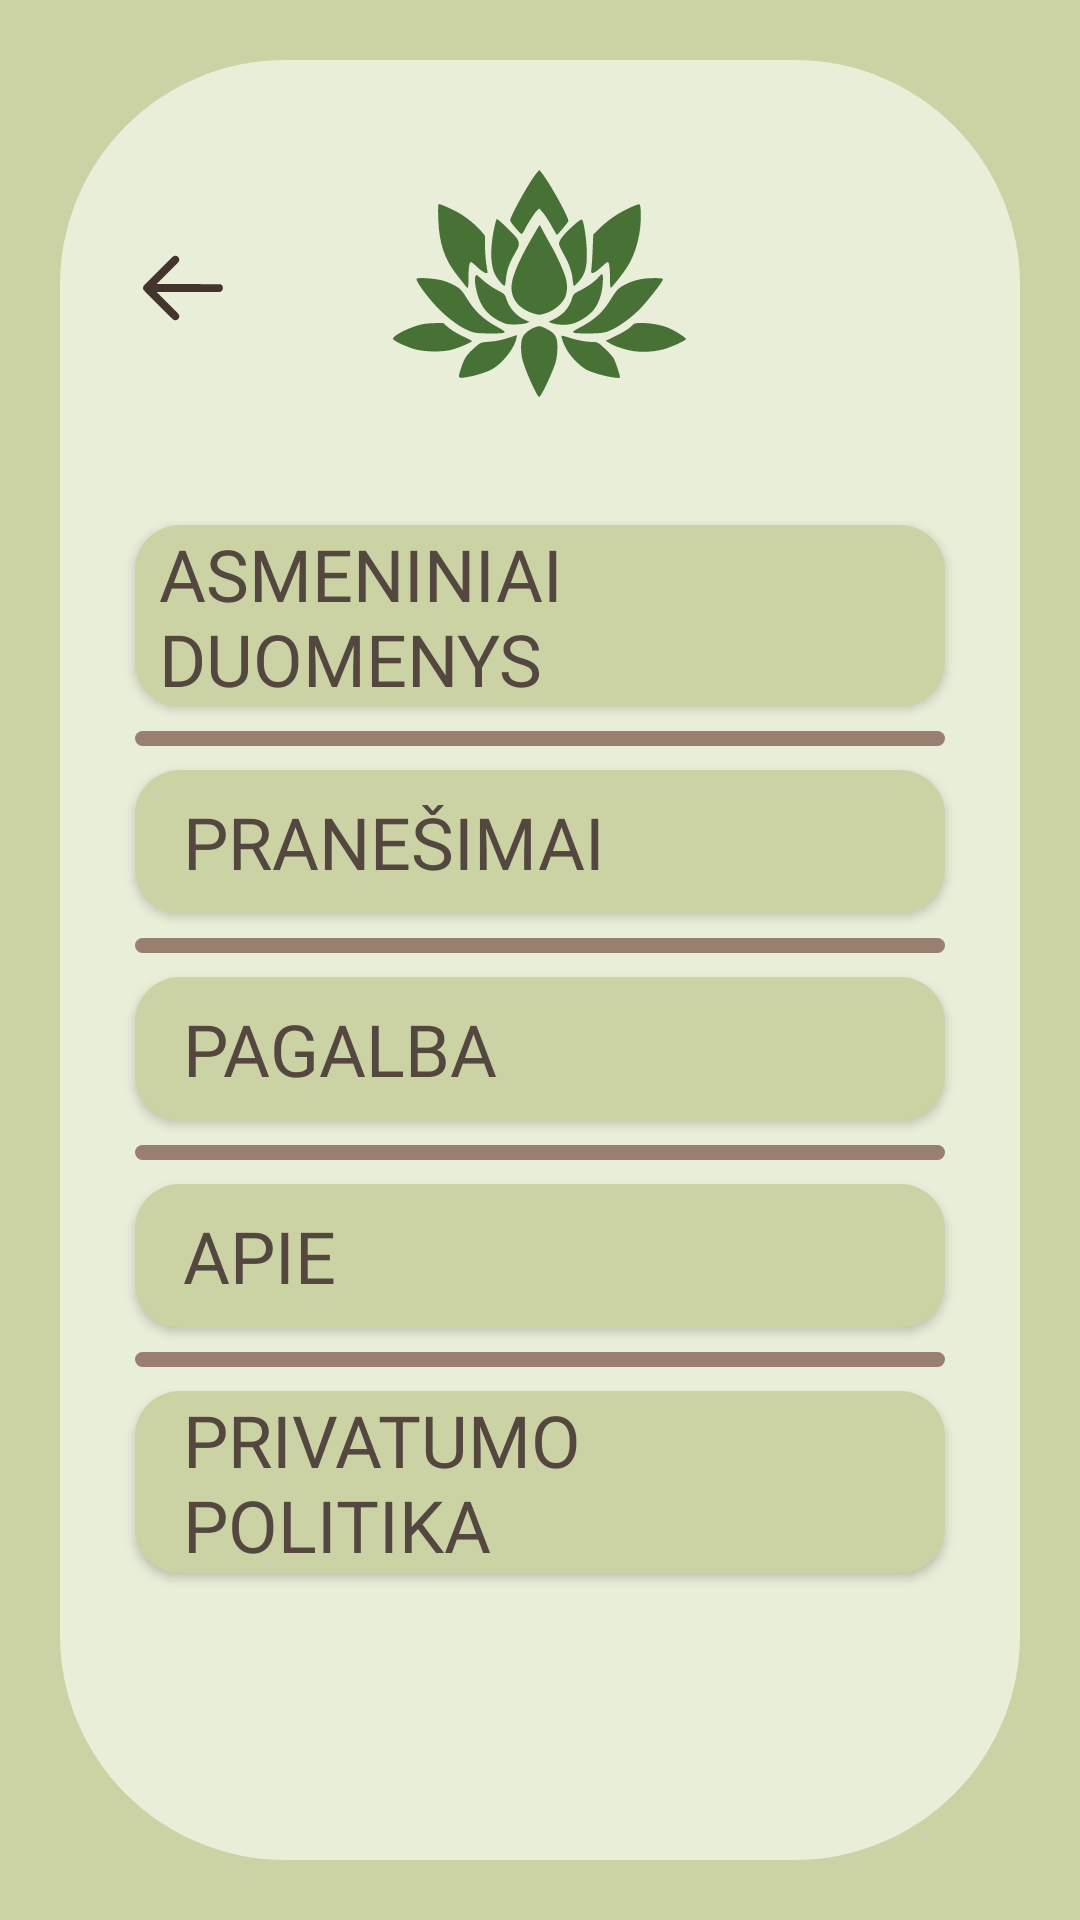

Where to tap for icons on this 1080 × 1920 app screen, as (x=x, y=y):
Lotus icon: (x=539, y=283)
